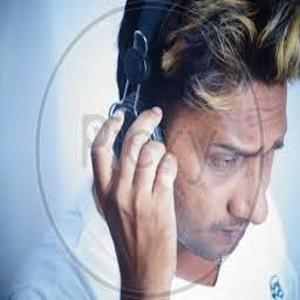Headphones: (103, 1, 195, 178)
